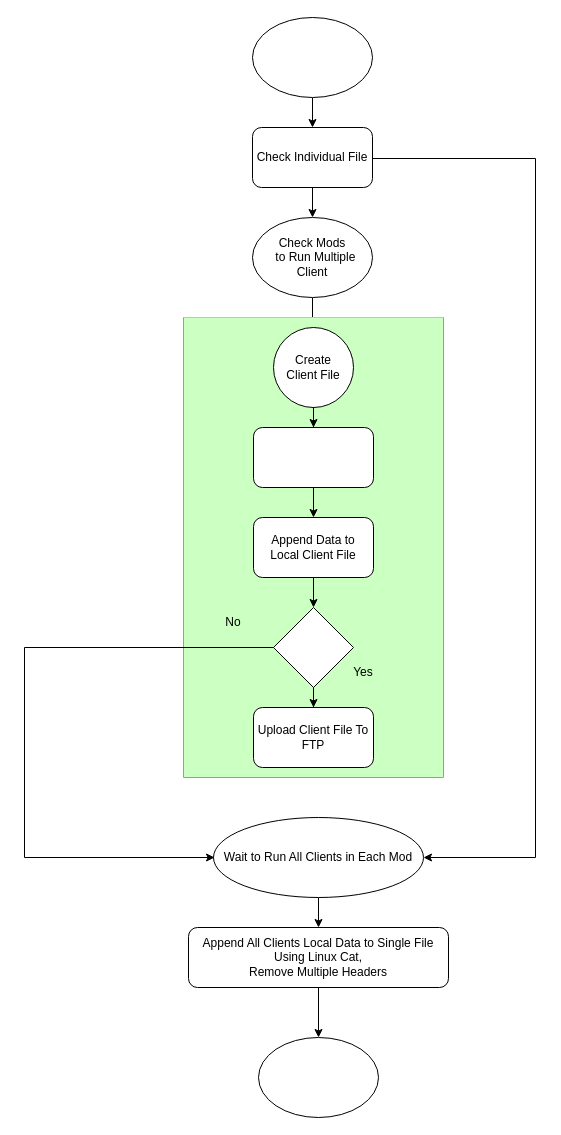
Some shapes in this 561 by 1135 pixel diagram are drawn without their labels. The shapes that lost their labels are listed below. From the top down, each one's centre as x and y in pixels, then its label:
At point 312,57: "RunExport et_id, reseller_id".
At point 313,457: "Process Client Vehicles".
At point 313,647: "Individual File".
At point 318,1077: "Upload File To FTP".
